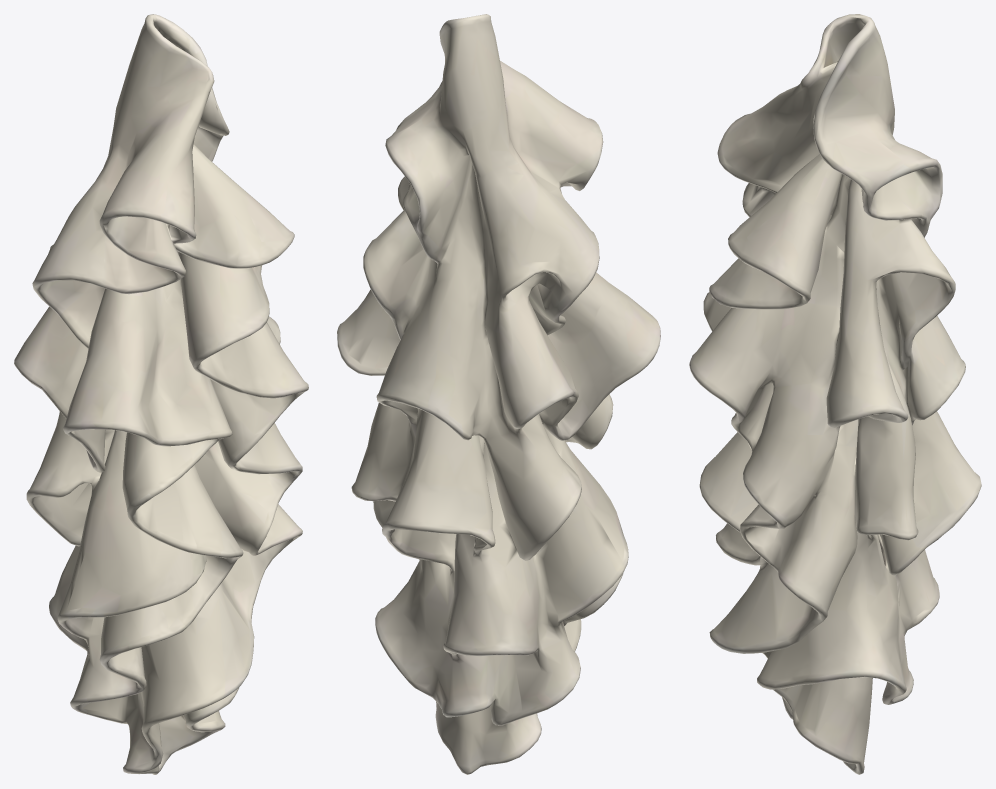
3 renders of one model, left to right at view 1: azimuth 30°, elevation 25°; view 2: azimuth 150°, elevation 25°; view 3: azimuth 270°, elevation 25°, orthographic.
Bounding box in the file's own units: 0.683 × 1.9 × 0.6661.
Materials: 1 (1 with a texture image).
